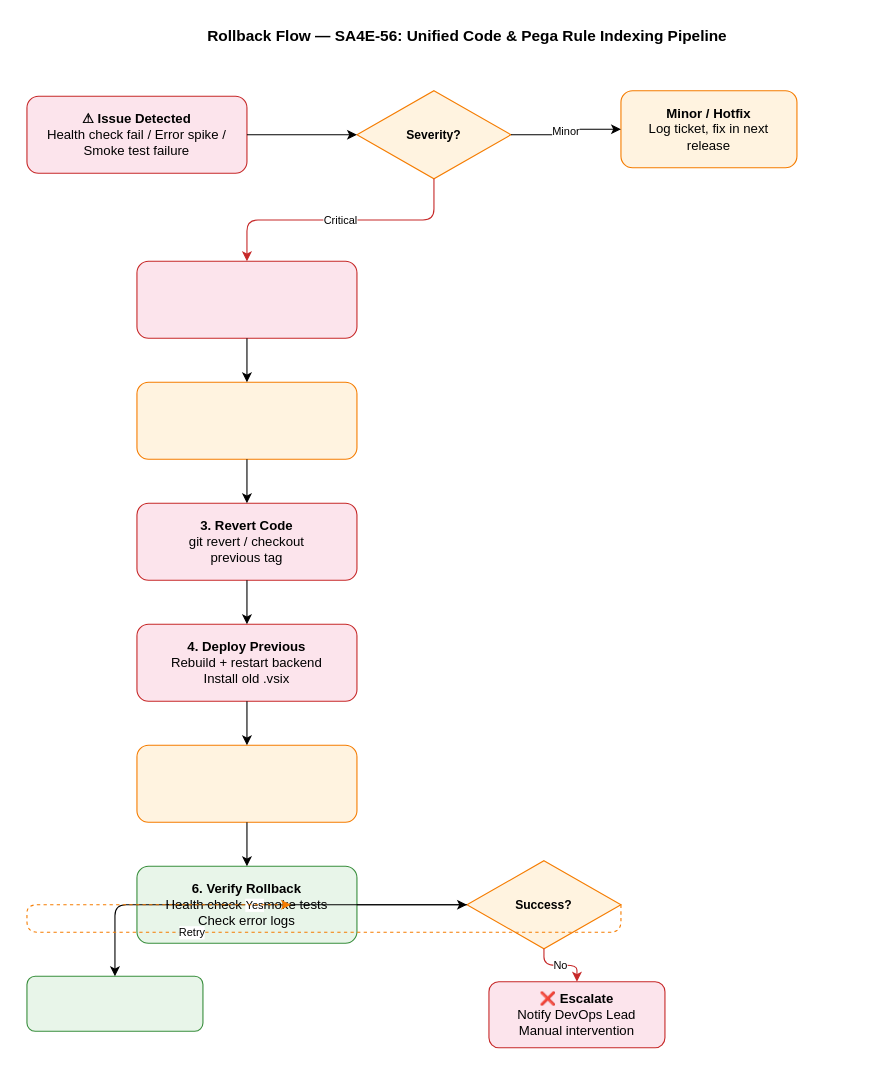
The diagram is 871 pixels wide and 1067 high, and some of its shapes have lost their labels. The centre of each missing label's shape, as x and y in pixels:
"1. Stop Service docker stop sa4e-backend kill node process" belongs at pixel 246 299.
"2. Rollback DB No schema changes — skip (no-op)" belongs at pixel 246 420.
"5. Restore Config Revert .env, grammar-config Restore feature flags" belongs at pixel 246 783.
"✅ Rollback Complete" belongs at pixel 114 1003.
